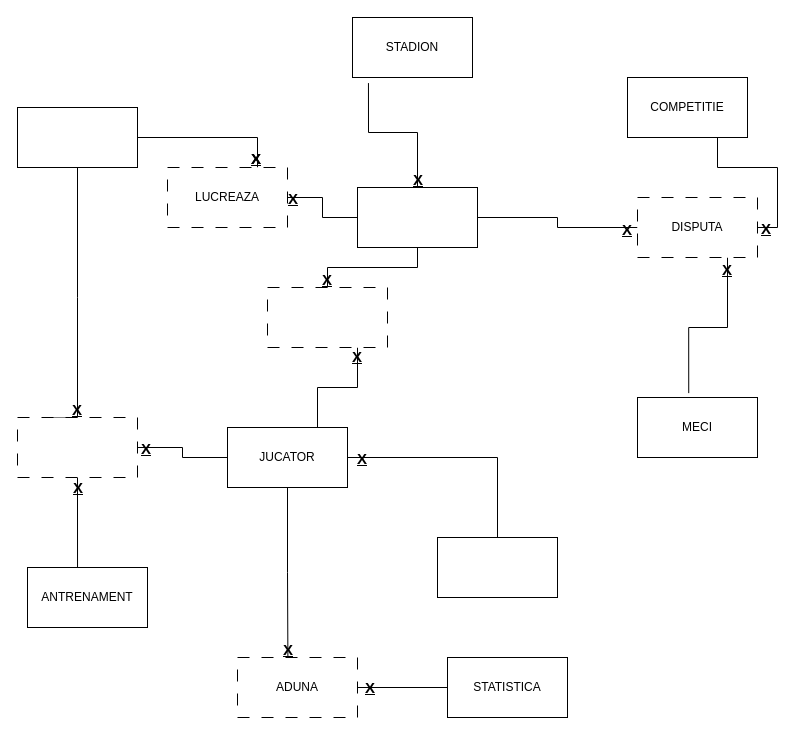
This 799x735 diagram has some shape labels left out. The centre of each missing label's shape, as x and y in pixels:
ANTRENEAZA: (x=77, y=447)
ANTRENOR: (x=77, y=137)
ECHIPA: (x=417, y=217)
PERFORMEAZA: (x=327, y=317)
POZITIE: (x=497, y=567)
